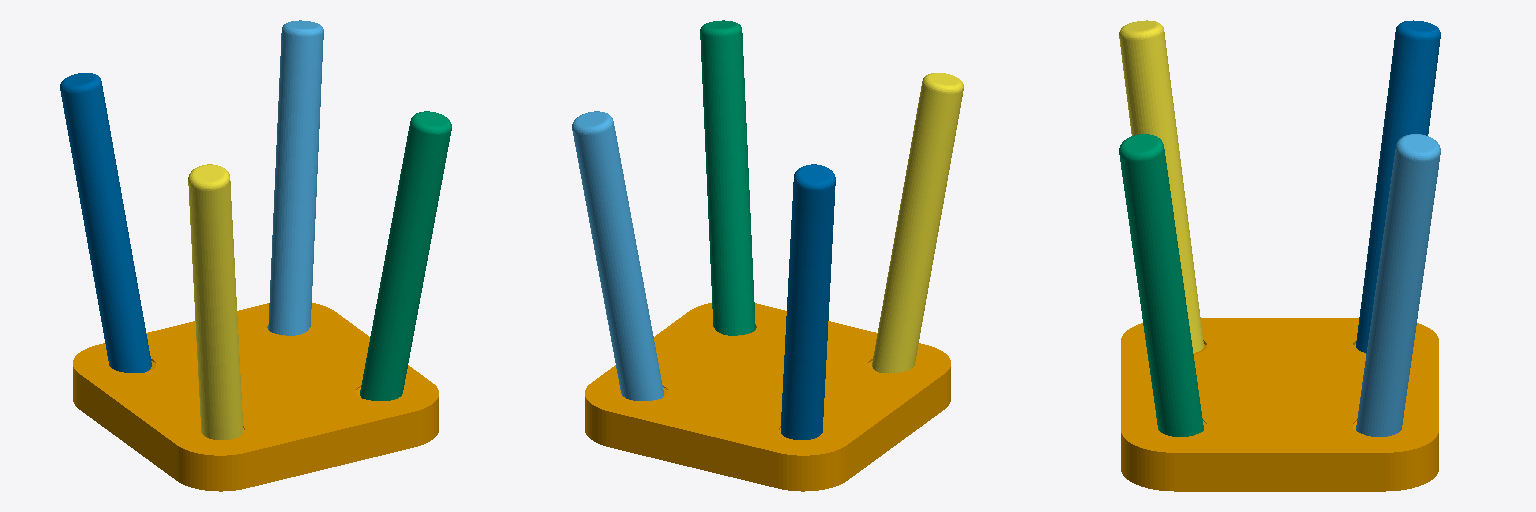
The robot description file, URDF, robot "flisat":
<?xml version="0.0" ?>
<robot name="flisat">
  <link name="flisat_plate_link">
    <contact>
      <lateral_friction value="1.0"/>
    </contact>
    <inertial>
      <origin rpy="0 0 0" xyz="0 0 0"/>
       <mass value=".0"/>
       <inertia ixx="1" ixy="0" ixz="0" iyy="1" iyz="0" izz="1"/>
    </inertial>
    <visual>
      <origin rpy="0 0 0" xyz="0 0 0"/>
      <geometry>
        <mesh filename="package://stool_description/meshes/flisat_plate.stl" scale="0.001 0.001 0.001"/>
      </geometry>
    </visual>
    <collision>
      <origin rpy="0 0 0" xyz="0 0 0"/>
      <geometry>
        <mesh filename="package://stool_description/meshes/flisat_plate.stl" scale="0.001 0.001 0.001" />
      </geometry>
    </collision>
  </link>

  <!--Leg 1-->
  <joint name="flisat_leg_1_joint" type="fixed">
    <origin xyz="0.071207 0.071207 0.005503" rpy="-0.11938 0.11938 0"/>
    <parent link="flisat_plate_link"/>
    <child link="flisat_leg_1_link"/>
  </joint>
  <link name="flisat_leg_1_link">
    <inertial>
      <origin rpy="0 0 0" xyz="0 0 0"/>
       <mass value=".0"/>
       <inertia ixx="1" ixy="0" ixz="0" iyy="1" iyz="0" izz="1"/>
    </inertial>
    <visual>
      <origin rpy="0 0 0" xyz="0 0 0"/>
      <geometry>
        <mesh filename="package://stool_description/meshes/flisat_leg.stl" scale="0.001 0.001 0.001" />
      </geometry>
    </visual>
    <collision>
      <origin rpy="0 0 0" xyz="0 0 0"/>
      <geometry>
        <mesh filename="package://stool_description/meshes/flisat_leg.stl" scale="0.001 0.001 0.001" />
      </geometry>
    </collision>
  </link>

  <!--Leg 2-->
  <joint name="flisat_leg_2_joint" type="fixed">
    <origin xyz="0.071207 -0.071207 0.005503" rpy="0.11938 0.11938 0"/>
    <parent link="flisat_plate_link"/>
    <child link="flisat_leg_2_link"/>
  </joint>
  <link name="flisat_leg_2_link">
    <inertial>
      <origin rpy="0 0 0" xyz="0 0 0"/>
       <mass value=".0"/>
       <inertia ixx="1" ixy="0" ixz="0" iyy="1" iyz="0" izz="1"/>
    </inertial>
    <visual>
      <origin rpy="0 0 0" xyz="0 0 0"/>
      <geometry>
        <mesh filename="package://stool_description/meshes/flisat_leg.stl" scale="0.001 0.001 0.001" />
      </geometry>
    </visual>
    <collision>
      <origin rpy="0 0 0" xyz="0 0 0"/>
      <geometry>
        <mesh filename="package://stool_description/meshes/flisat_leg.stl" scale="0.001 0.001 0.001" />
      </geometry>
    </collision>
  </link>

  <!--Leg 3-->
  <joint name="flisat_leg_3_joint" type="fixed">
    <origin xyz="-0.071207 -0.071207 0.005503" rpy="0.11938 -0.11938 0"/>
    <parent link="flisat_plate_link"/>
    <child link="flisat_leg_3_link"/>
  </joint>
  <link name="flisat_leg_3_link">
    <inertial>
      <origin rpy="0 0 0" xyz="0 0 0"/>
       <mass value=".0"/>
       <inertia ixx="1" ixy="0" ixz="0" iyy="1" iyz="0" izz="1"/>
    </inertial>
    <visual>
      <origin rpy="0 0 0" xyz="0 0 0"/>
      <geometry>
        <mesh filename="package://stool_description/meshes/flisat_leg.stl" scale="0.001 0.001 0.001" />
      </geometry>
    </visual>
    <collision>
      <origin rpy="0 0 0" xyz="0 0 0"/>
      <geometry>
        <mesh filename="package://stool_description/meshes/flisat_leg.stl" scale="0.001 0.001 0.001" />
      </geometry>
    </collision>
  </link>

  <!--Leg 4-->
  <joint name="flisat_leg_4_joint" type="fixed">
    <origin xyz="-0.071207 0.071207 0.005503" rpy="-0.11938 -0.11938 0"/>
    <parent link="flisat_plate_link"/>
    <child link="flisat_leg_4_link"/>
  </joint>
  <link name="flisat_leg_4_link">
    <inertial>
      <origin rpy="0 0 0" xyz="0 0 0"/>
       <mass value=".0"/>
       <inertia ixx="1" ixy="0" ixz="0" iyy="1" iyz="0" izz="1"/>
    </inertial>
    <visual>
      <origin rpy="0 0 0" xyz="0 0 0"/>
      <geometry>
        <mesh filename="package://stool_description/meshes/flisat_leg.stl" scale="0.001 0.001 0.001" />
      </geometry>
    </visual>
    <collision>
      <origin rpy="0 0 0" xyz="0 0 0"/>
      <geometry>
        <mesh filename="package://stool_description/meshes/flisat_leg.stl" scale="0.001 0.001 0.001" />
      </geometry>
    </collision>
  </link>


</robot>

--- Facts derived from the render (not from the file) ---
3 views of the same robot in one strip: view 1: azimuth 30°, elevation 25°; view 2: azimuth 150°, elevation 25°; view 3: azimuth 270°, elevation 25° (orthographic).
Robot: flisat — 5 links, 4 joints (4 fixed); root link flisat_plate_link; default pose: all joints at 0.
Visible links, largest first — view 1: flisat_plate_link, flisat_leg_1_link, flisat_leg_4_link, flisat_leg_2_link, flisat_leg_3_link; view 2: flisat_plate_link, flisat_leg_2_link, flisat_leg_3_link, flisat_leg_1_link, flisat_leg_4_link; view 3: flisat_plate_link, flisat_leg_1_link, flisat_leg_2_link, flisat_leg_3_link, flisat_leg_4_link.
Link boxes in pixels (left/top/right/bottom): flisat_plate_link: left=73, top=303, right=438, bottom=491; flisat_leg_1_link: left=268, top=20, right=323, bottom=335; flisat_leg_4_link: left=60, top=73, right=151, bottom=372; flisat_leg_2_link: left=360, top=111, right=451, bottom=400; flisat_leg_3_link: left=188, top=164, right=242, bottom=439; flisat_plate_link: left=585, top=303, right=950, bottom=491; flisat_leg_2_link: left=700, top=20, right=755, bottom=335; flisat_leg_3_link: left=872, top=73, right=963, bottom=373; flisat_leg_1_link: left=572, top=111, right=663, bottom=400; flisat_leg_4_link: left=781, top=164, right=835, bottom=439; flisat_plate_link: left=1121, top=318, right=1438, bottom=491; flisat_leg_1_link: left=1356, top=134, right=1440, bottom=436; flisat_leg_2_link: left=1119, top=134, right=1203, bottom=436; flisat_leg_3_link: left=1119, top=20, right=1203, bottom=353; flisat_leg_4_link: left=1356, top=20, right=1440, bottom=353.
Size in the robot's own frame: 0.2413 by 0.2417 by 0.2832 metres.
Meshes: 2 distinct files referenced, 5 mesh visuals loaded (2 binary STL).